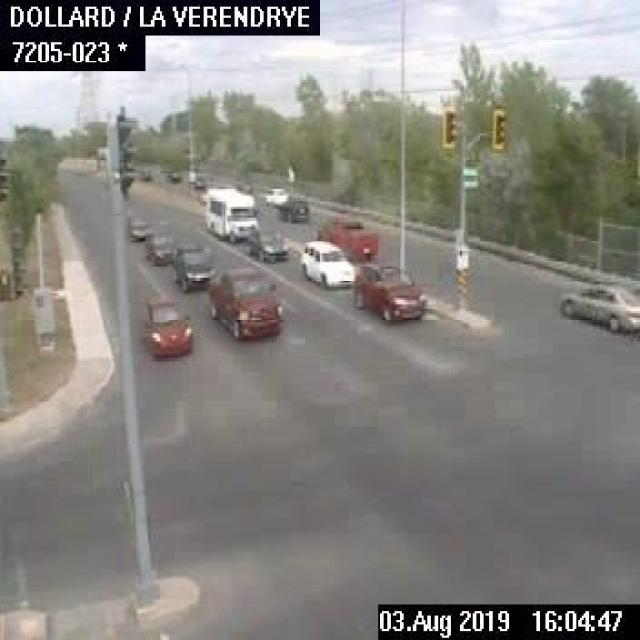bus: (203, 185, 258, 240)
vehicle: (213, 270, 285, 336), (555, 280, 638, 333), (356, 264, 424, 320), (140, 294, 189, 356), (315, 215, 377, 261), (298, 236, 354, 286), (173, 240, 214, 290), (247, 224, 290, 262), (145, 230, 182, 264), (281, 194, 307, 220), (126, 212, 148, 240), (263, 186, 290, 207), (138, 167, 151, 180), (166, 169, 178, 180)
